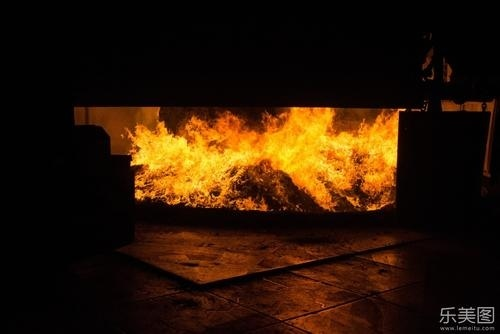fire: (124, 102, 402, 211)
